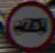Heavy Vehicles: (5, 5, 50, 44)
